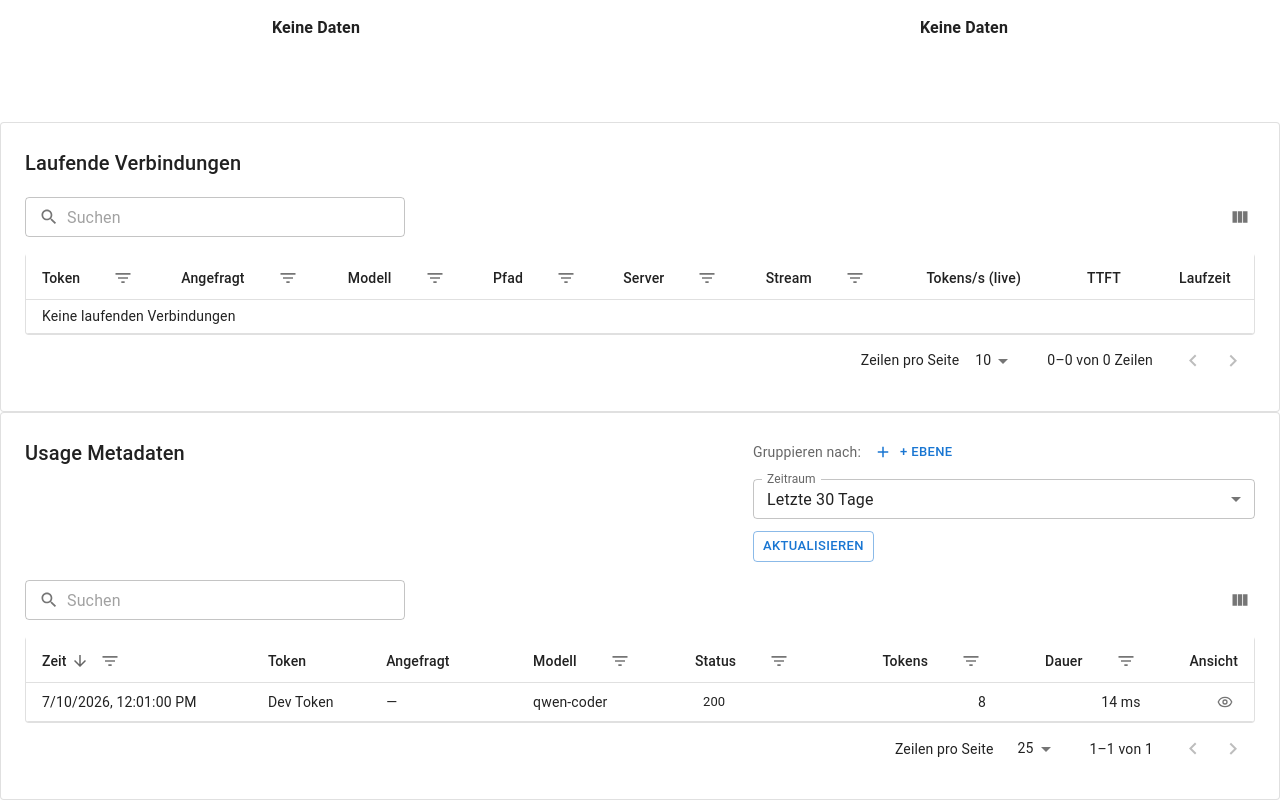
Test: opens the dialog and shows the chat-derived response on View
(page scrolled)
Expected: the cell "qwen-coder" is shown, [517,682,679,722]
Click the button named "Ansicht": coordinates (1225, 702) [1212,689,1238,715]
(page scrolled)
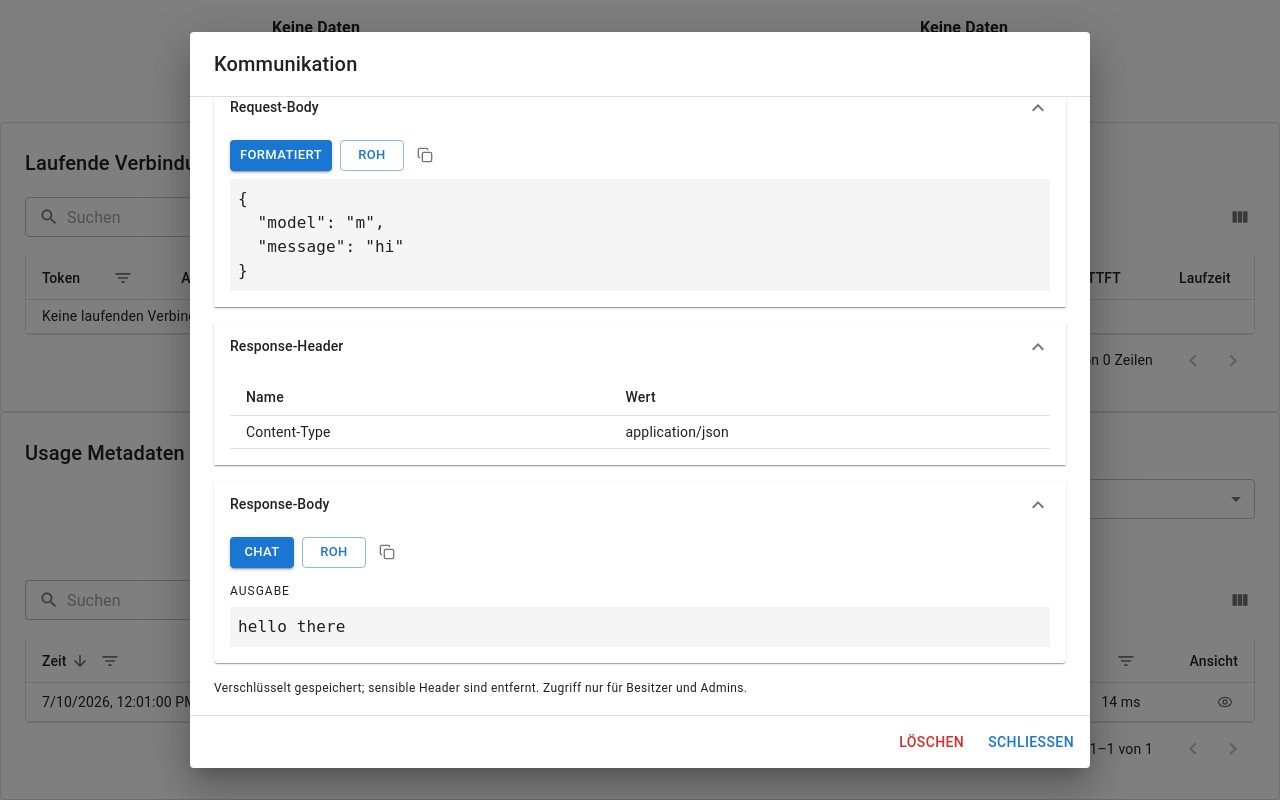
Now the heading "Kommunikation" is shown, box [214,52,357,76]
Now the text "hello there" is shown, box [230,607,1050,647]
